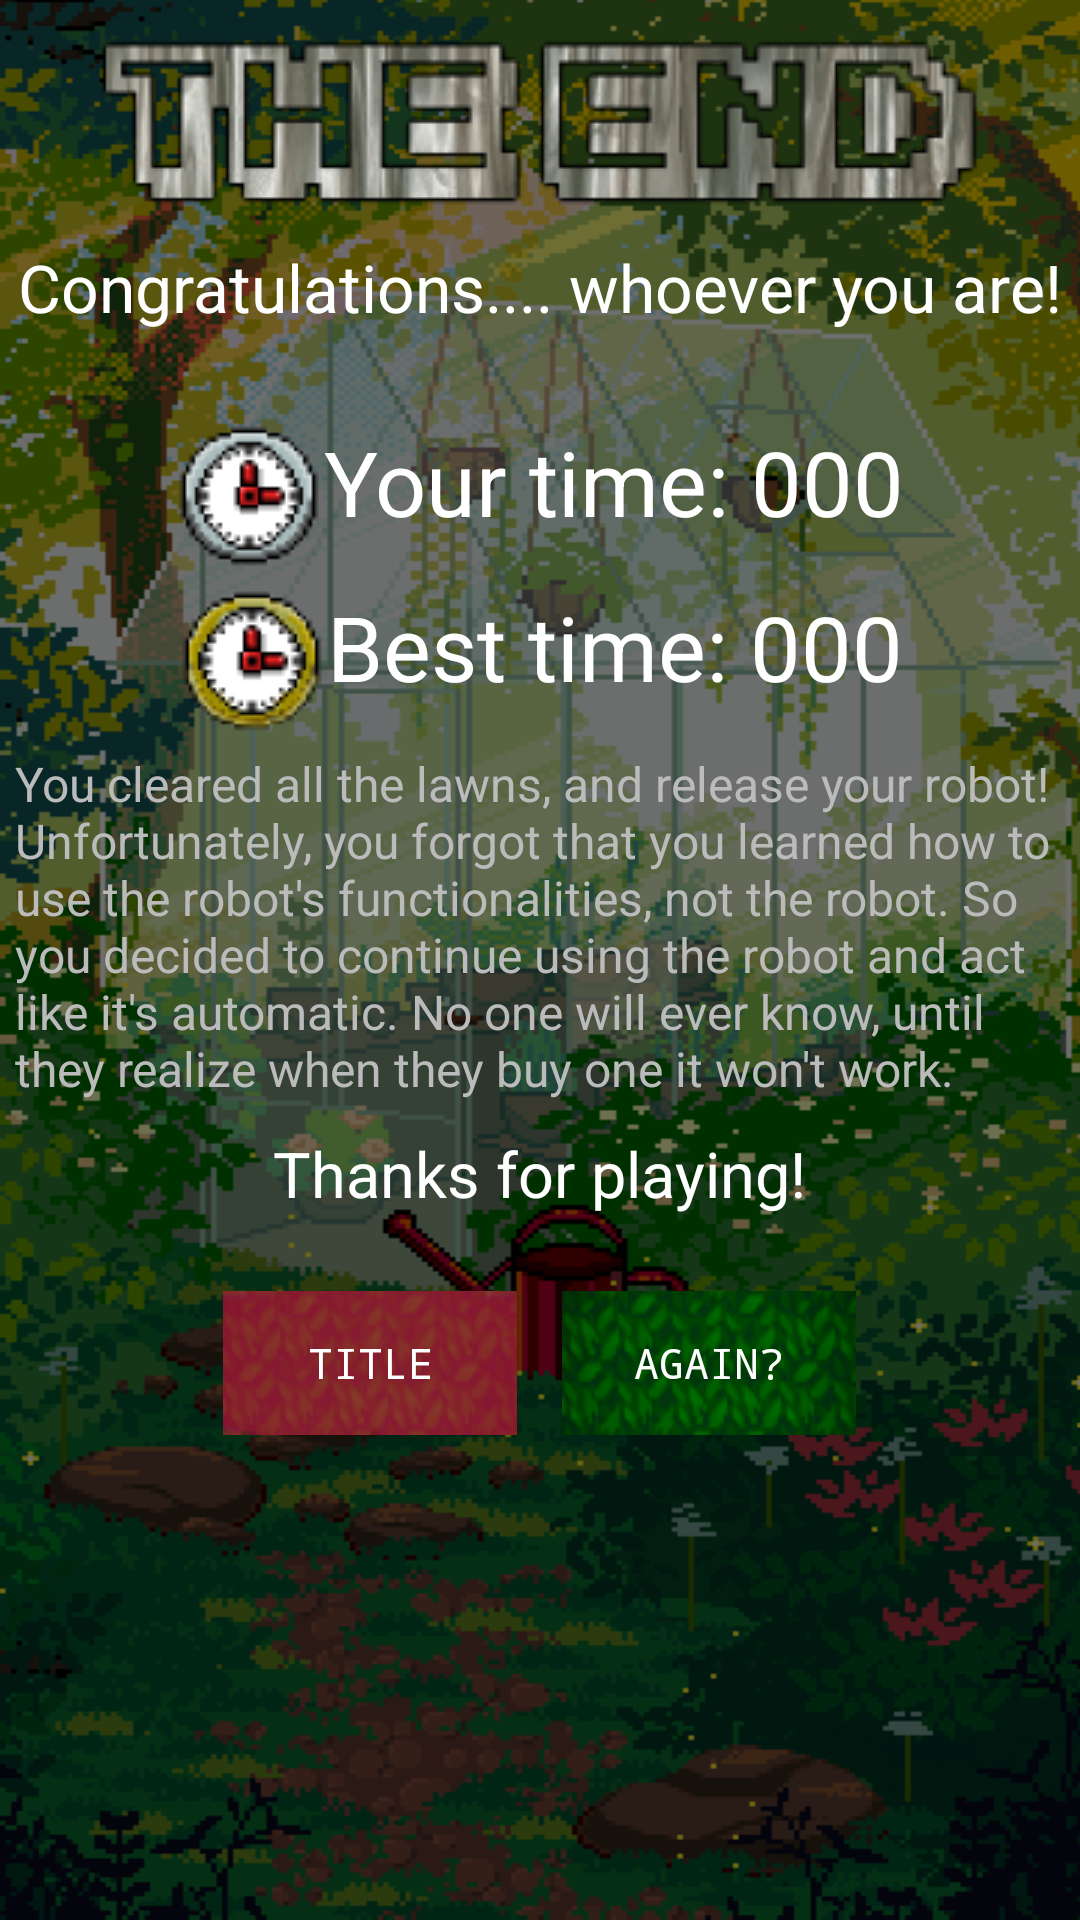

Point at icon controls on the screen. Image size 1080x1920, points as [x,y].
clock: [249,496]
goldclock: [252,661]
